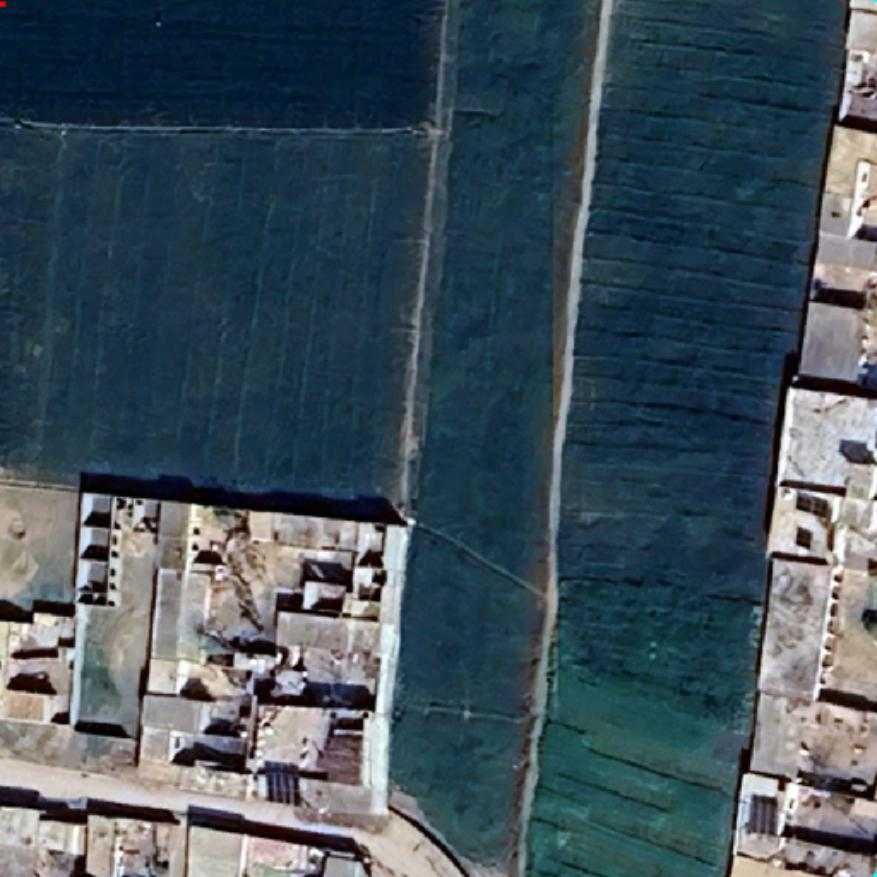Solarpanel: (743, 790, 783, 840), (261, 764, 305, 809), (792, 488, 836, 522)
